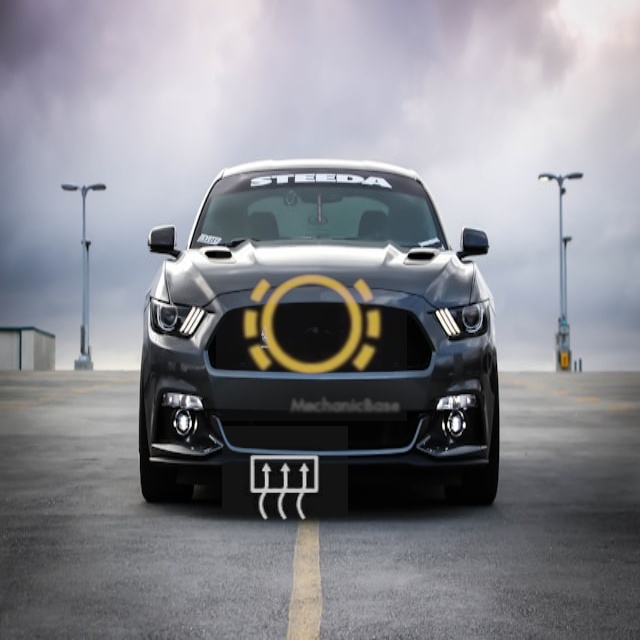symbol: (216, 230, 407, 421), (222, 426, 348, 552)
